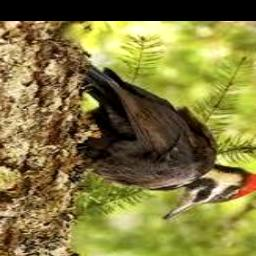Woodpecker: (75, 64, 256, 221)
